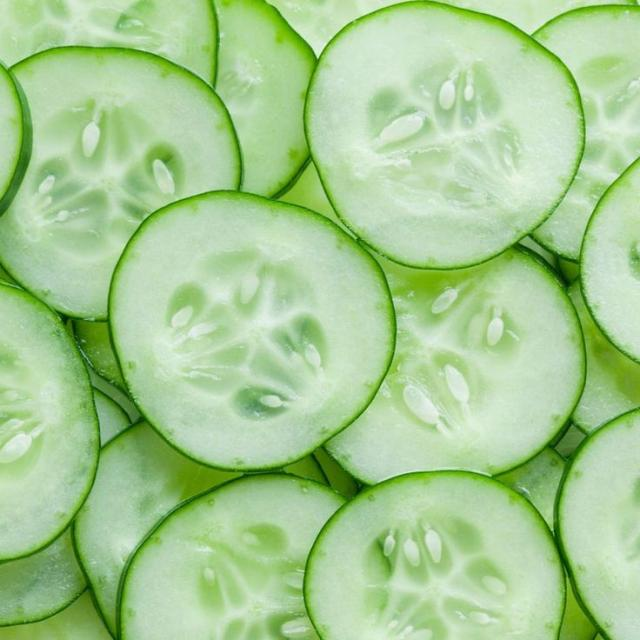cucumber sliced: (110, 193, 394, 469), (306, 2, 584, 268), (0, 47, 240, 319), (327, 250, 584, 483), (305, 472, 565, 639), (120, 475, 342, 639), (74, 423, 238, 633), (74, 423, 236, 633), (0, 285, 99, 560), (534, 7, 639, 260), (215, 0, 315, 195), (557, 412, 639, 639), (0, 0, 217, 81), (581, 161, 639, 361), (569, 281, 639, 433), (0, 532, 86, 627), (0, 532, 86, 626), (440, 0, 636, 32), (497, 448, 565, 527), (498, 449, 565, 527), (0, 593, 112, 639), (0, 63, 32, 214), (280, 162, 342, 226), (73, 320, 125, 389), (87, 367, 140, 423), (314, 448, 359, 499), (94, 389, 131, 445), (519, 236, 558, 271), (283, 455, 329, 484), (554, 425, 586, 459), (558, 258, 579, 284), (0, 266, 14, 284)
